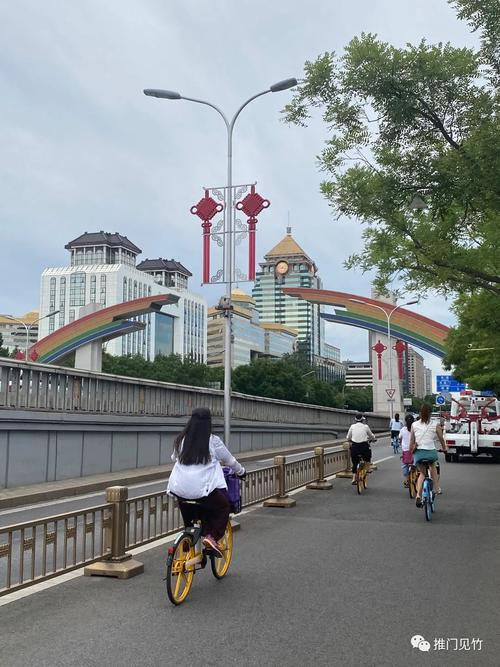bicycle: (164, 492, 239, 609), (414, 456, 439, 522), (351, 457, 376, 493)
person: (166, 406, 245, 584), (410, 399, 446, 508), (347, 415, 375, 492), (399, 414, 415, 495), (390, 412, 401, 453)
truck: (442, 389, 500, 462)
